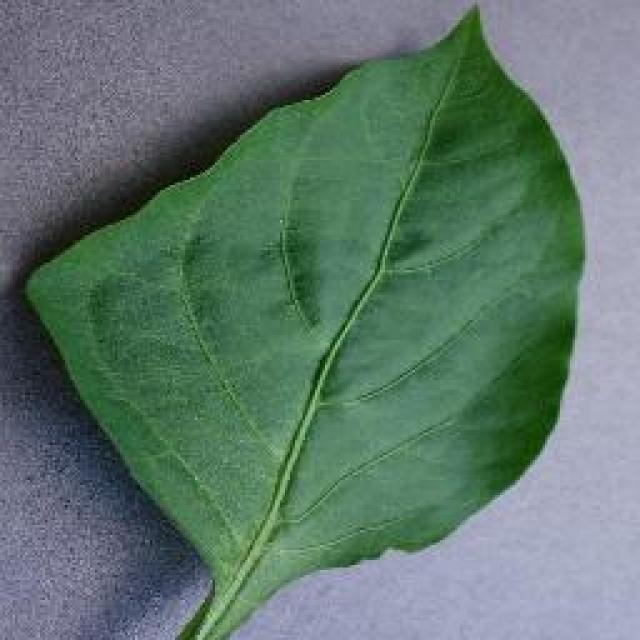Chilli_Healthy: (20, 0, 588, 638)
